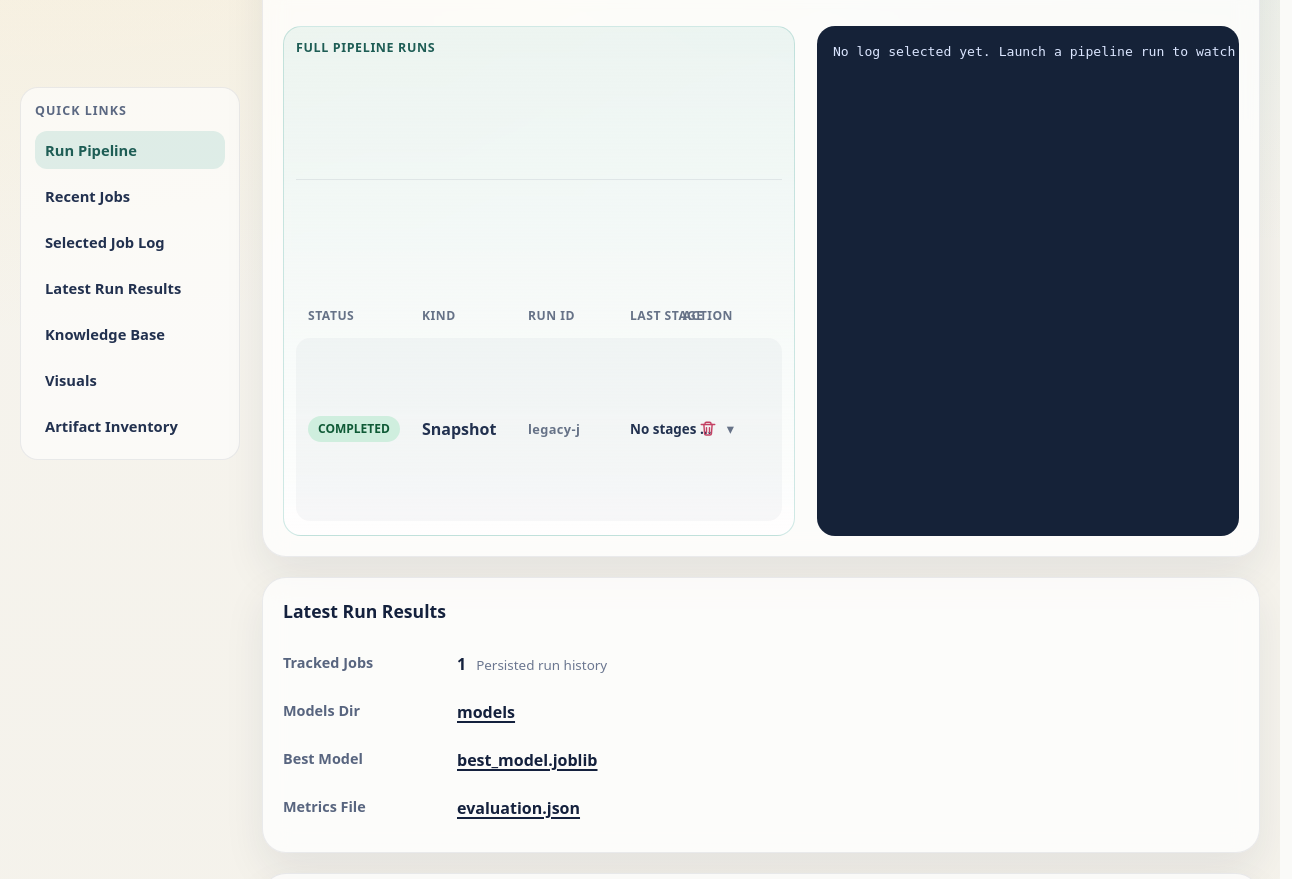
Test case: App › smoke test: mounts the dashboard with empty and legacy job data
(page scrolled)
Click the button "legacy-j" at (472, 429), box 308,416 -> 636,442
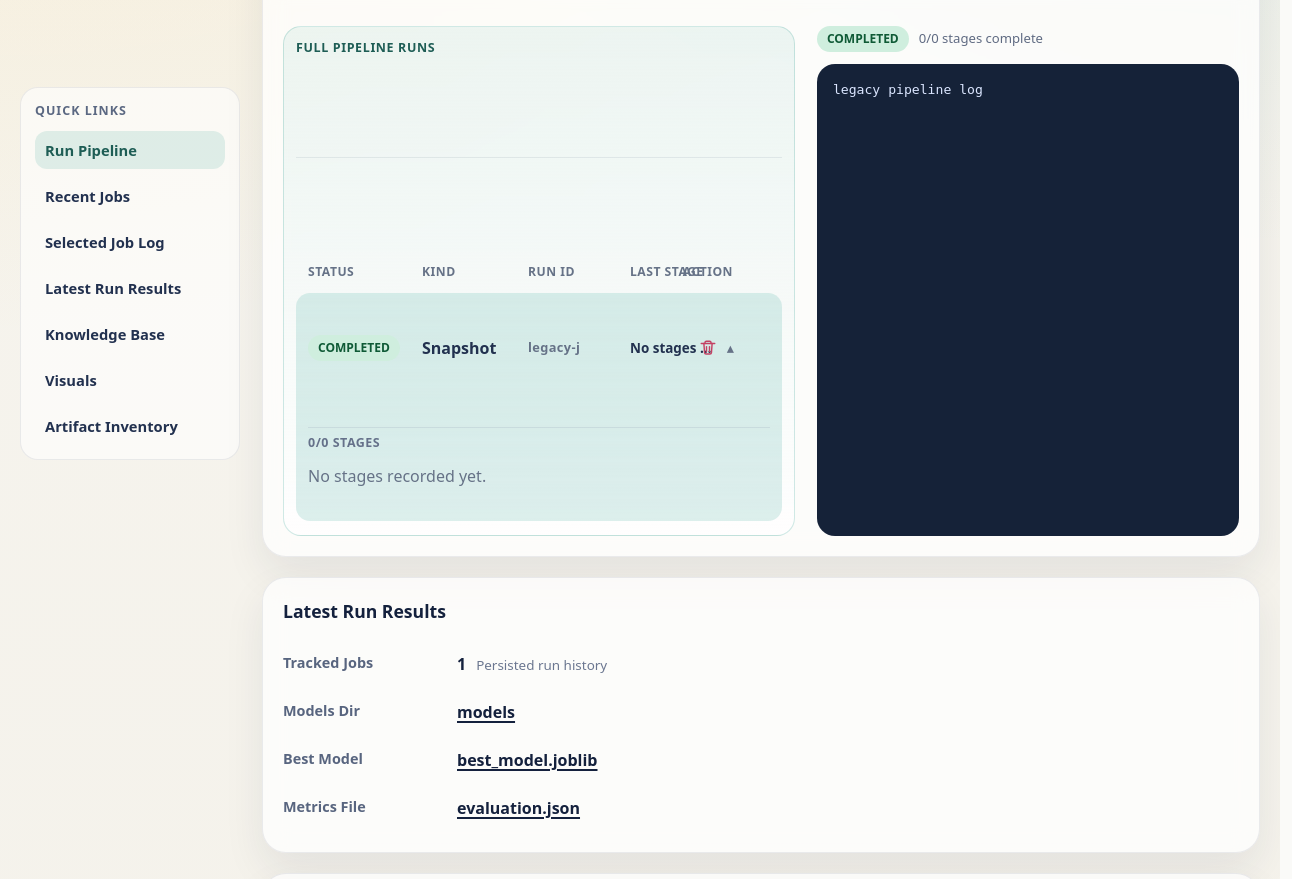
expect the button named "delete job legacy-job-1" is shown: met, box 686,326 -> 730,370
expect the text "0/0 stages" is shown: met, box 308,434 -> 380,453
